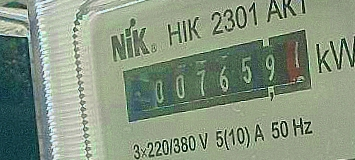0: (151, 75, 166, 104), (172, 72, 187, 100)
1: (289, 39, 302, 71)
5: (237, 54, 254, 86)
6: (216, 62, 230, 93)
7: (193, 65, 208, 98)
9: (261, 49, 278, 84)
screen: (106, 22, 332, 128)
